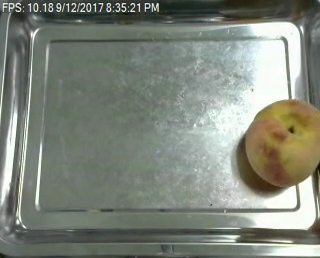Peach: (243, 98, 320, 187)
